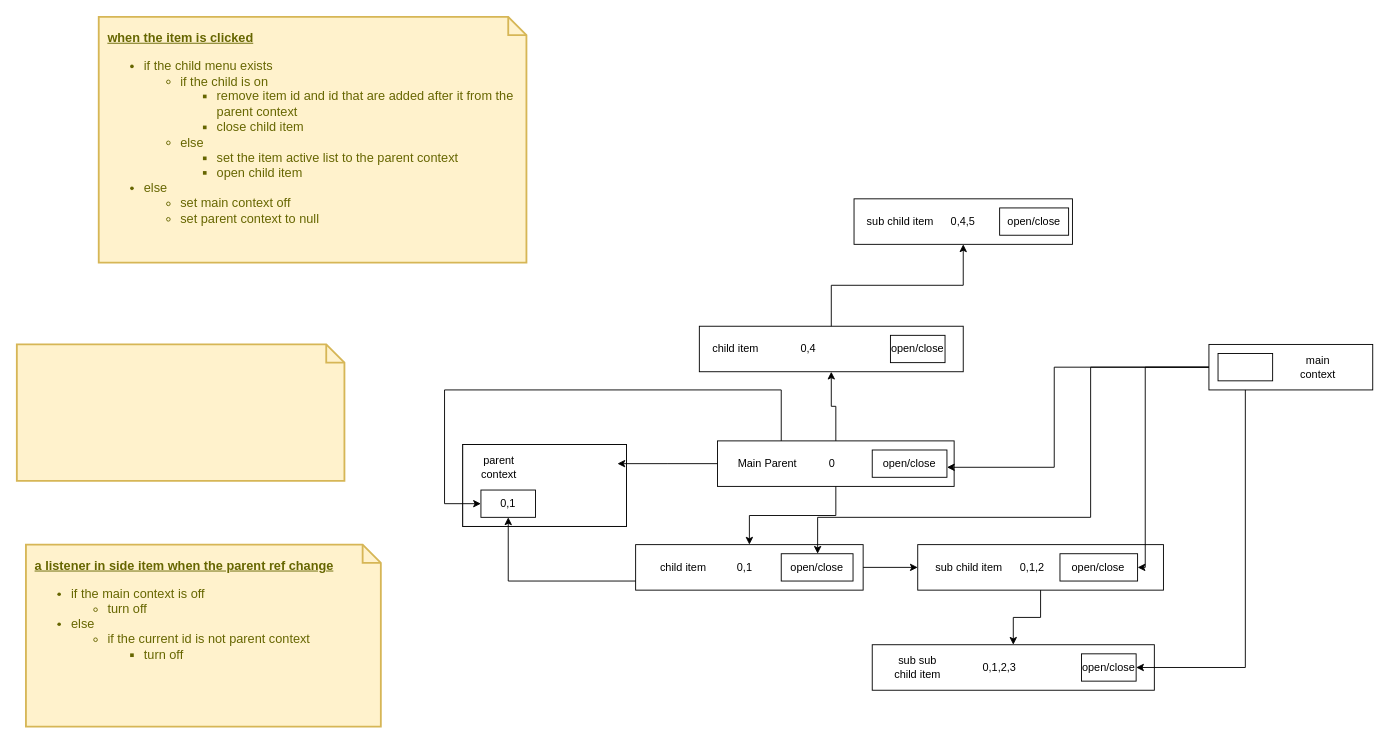
The diagram is 1389 pixels wide and 743 high, and some of its shapes have lost their labels. The centre of each missing label's shape, as x and y in pixels:
on/off: the point at 1245,367
when item rendered if the item is on turn on else turn off: the point at 180,412
